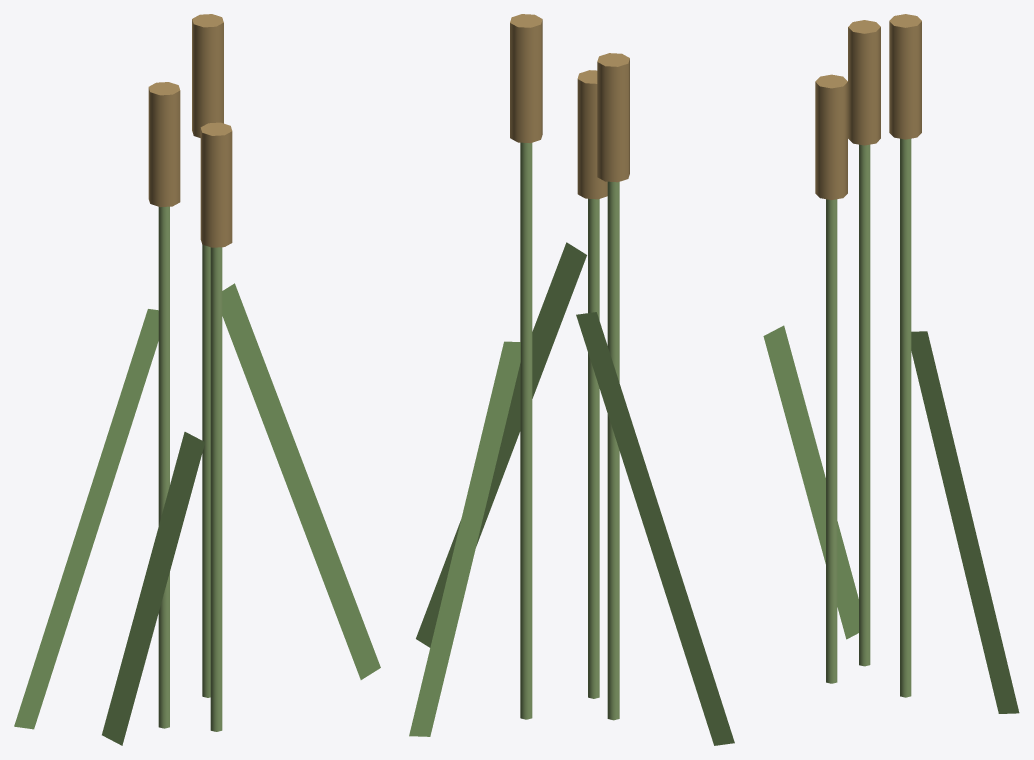
The model's file is cattail.glb.
3 views of the same model, side by side, from view 1: azimuth 30°, elevation 25°; view 2: azimuth 150°, elevation 25°; view 3: azimuth 270°, elevation 25° (orthographic). The views are drawn at different scales.
Parts seen in each view (by area): view 1: leaf_1, leaf_2, leaf_4, stem_3, stem_1, stem_2, head_3, head_1, head_2; view 2: leaf_2, leaf_3, stem_2, stem_1, leaf_1, stem_3, head_1, head_2, head_3; view 3: leaf_3, stem_2, stem_1, leaf_4, stem_3, head_2, head_1, head_3.
Boxes of the visible parts, left/top/right/bottom form: leaf_1: left=222, top=283, right=380, bottom=679; leaf_2: left=14, top=309, right=158, bottom=729; leaf_4: left=102, top=432, right=204, bottom=745; stem_3: left=210, top=247, right=222, bottom=731; stem_1: left=158, top=206, right=169, bottom=728; stem_2: left=202, top=244, right=210, bottom=697; head_3: left=200, top=122, right=232, bottom=247; head_1: left=148, top=82, right=180, bottom=207; head_2: left=192, top=14, right=223, bottom=137; leaf_2: left=576, top=312, right=734, bottom=745; leaf_3: left=409, top=341, right=520, bottom=736; stem_2: left=520, top=142, right=532, bottom=719; stem_1: left=607, top=181, right=619, bottom=720; leaf_1: left=416, top=242, right=586, bottom=647; stem_3: left=588, top=198, right=599, bottom=698; head_1: left=597, top=53, right=629, bottom=182; head_2: left=510, top=14, right=542, bottom=143; head_3: left=577, top=70, right=607, bottom=199; leaf_3: left=911, top=331, right=1019, bottom=713; stem_2: left=900, top=138, right=911, bottom=697; stem_1: left=859, top=144, right=870, bottom=666; leaf_4: left=763, top=325, right=858, bottom=639; stem_3: left=826, top=199, right=837, bottom=683; head_2: left=889, top=14, right=921, bottom=139; head_1: left=848, top=20, right=880, bottom=145; head_3: left=815, top=74, right=847, bottom=200.
Size of the model in its own units: 0.4749 by 0.9062 by 0.3116.
